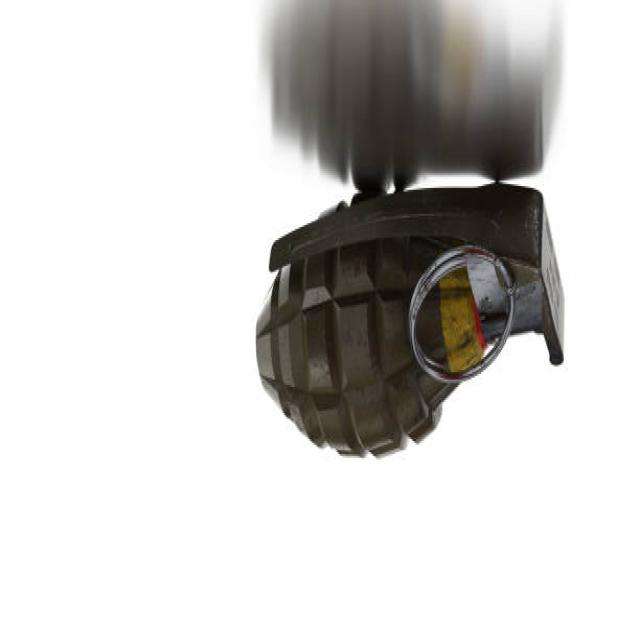grenade: (252, 177, 571, 467)
